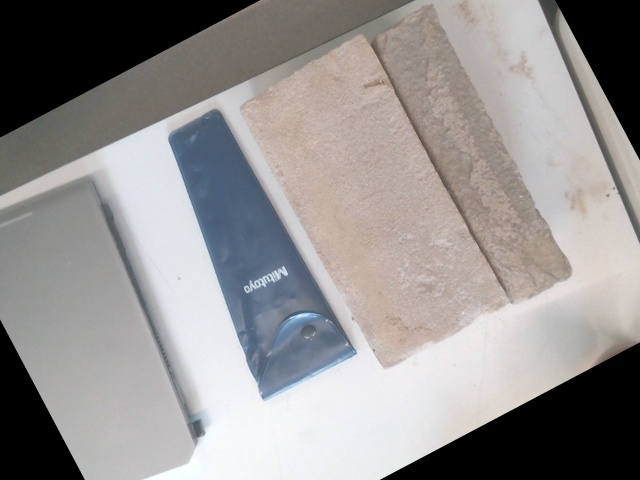brick: (238, 40, 508, 363)
